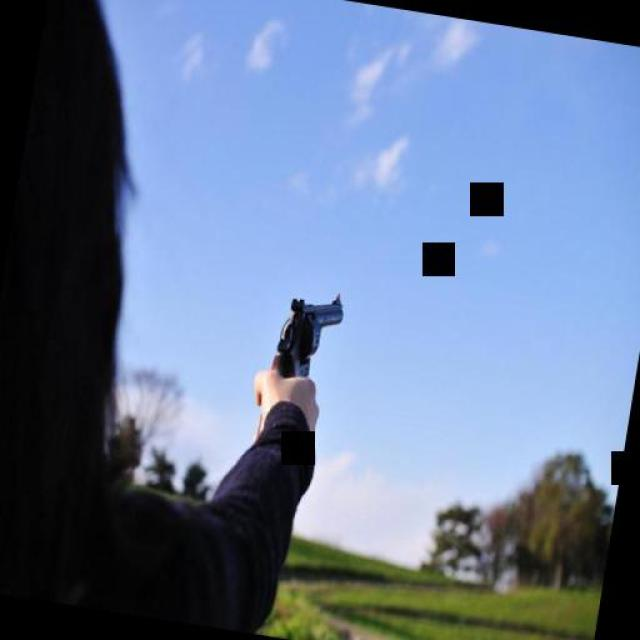gun: (252, 272, 348, 396)
